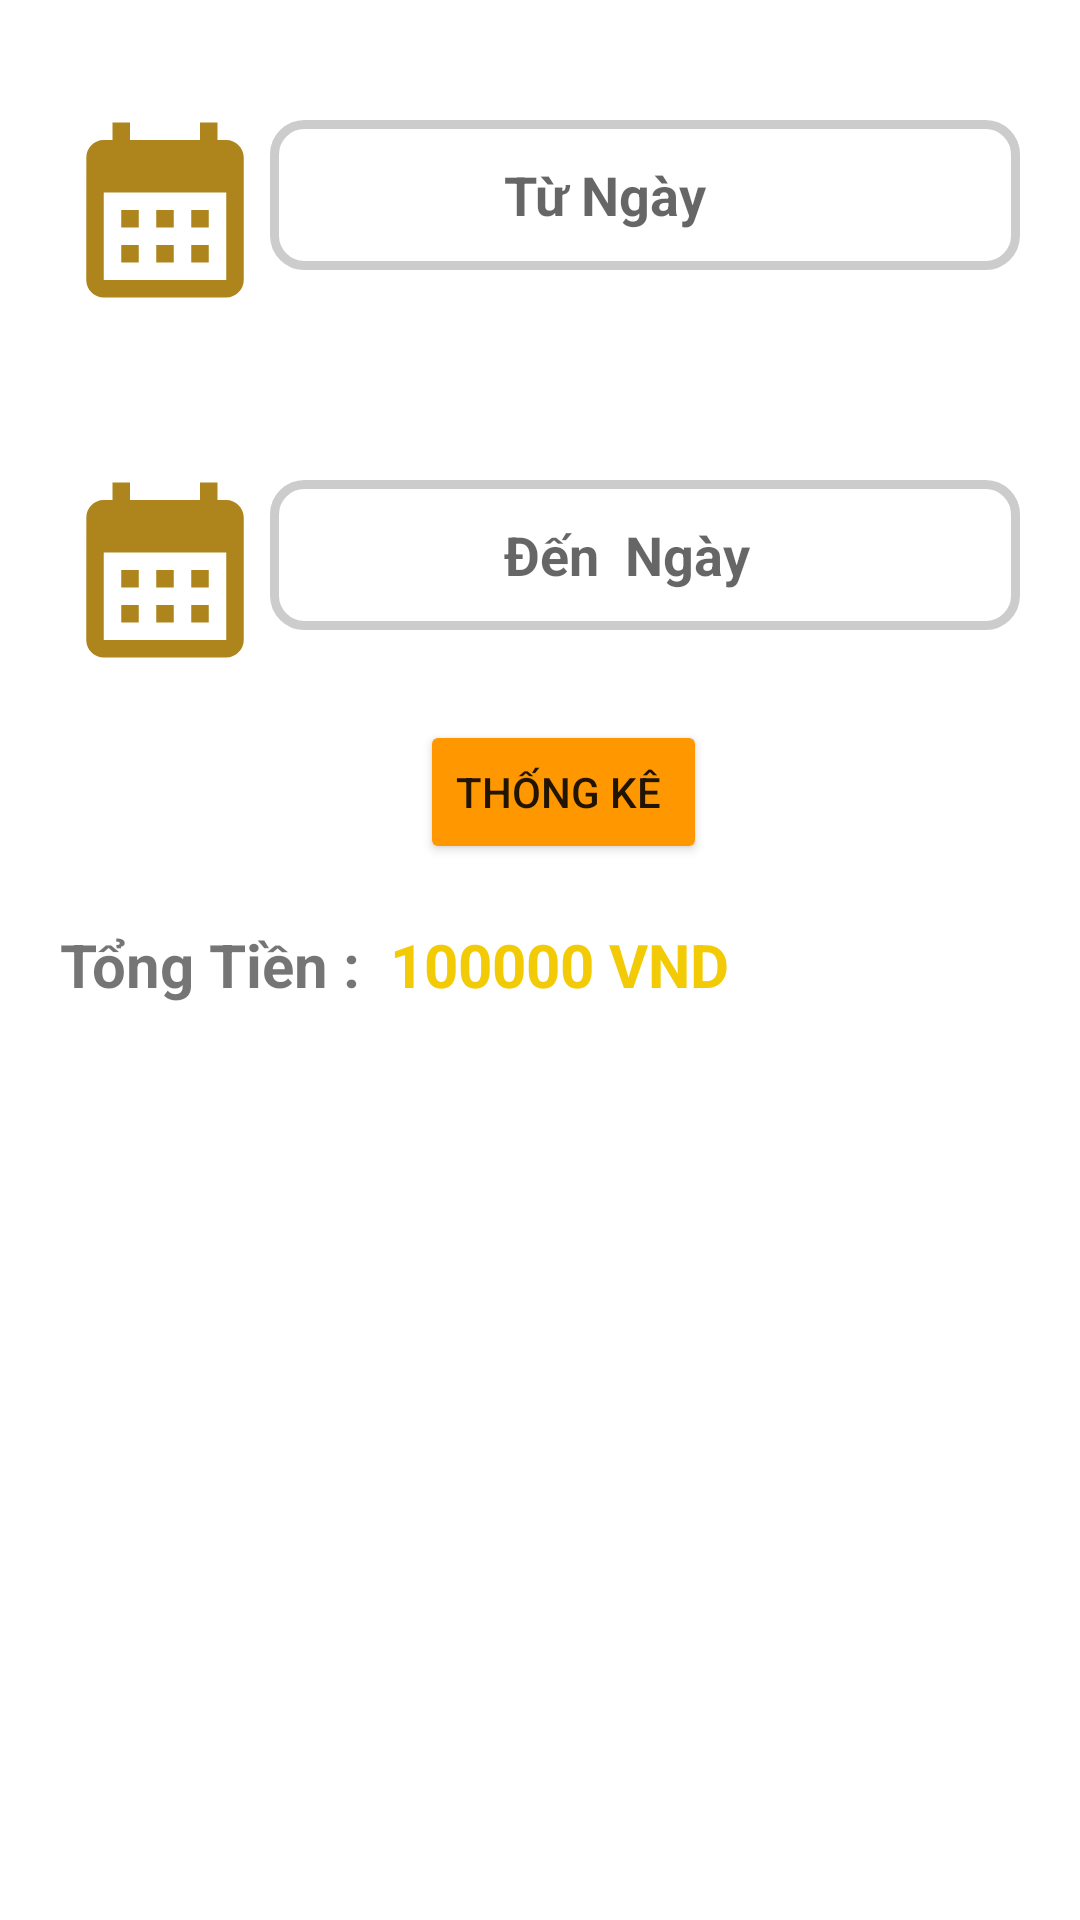

Where to tap for icons on this 1080 x 1920 app screen, as point (x, y):
lich: point (165, 210), point (165, 570)
